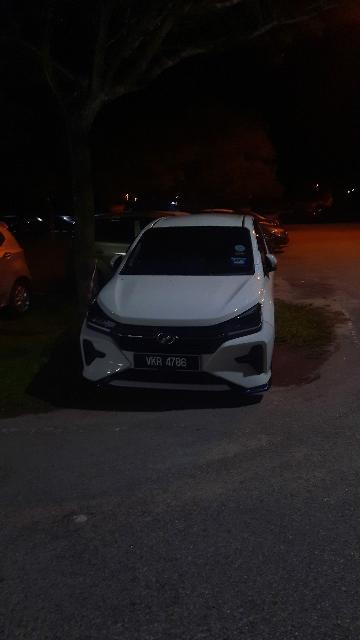License_Plate: (131, 352, 203, 376)
car: (77, 206, 282, 404)
